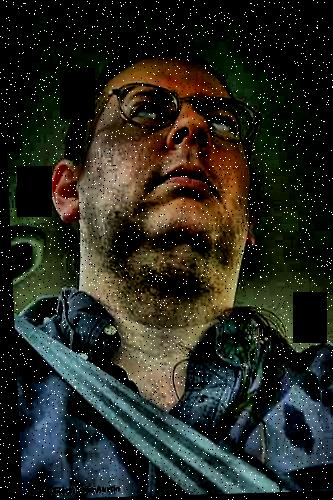seatbelt: (43, 303, 267, 480)
